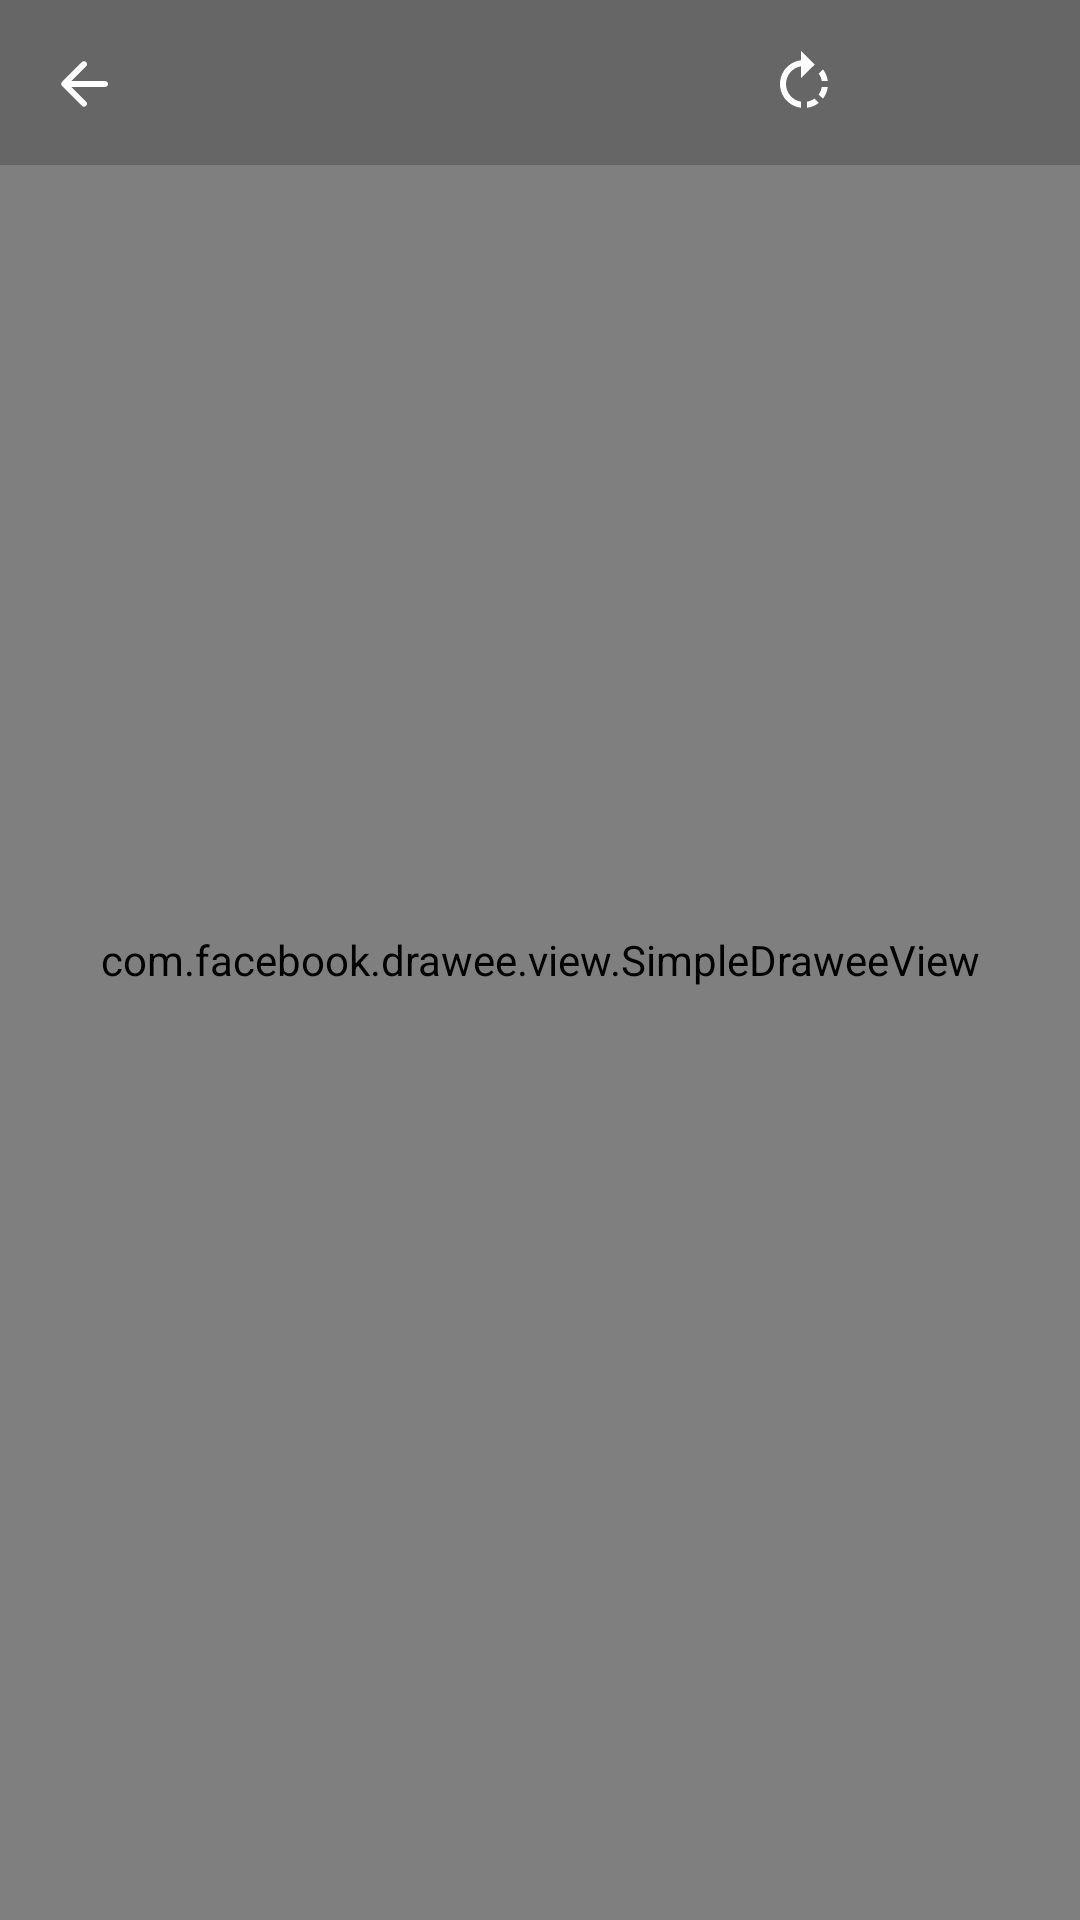

Point at icon controls on the screen. Image size 1080x1920, points as point (x, y).
back: point (84, 84)
rotate right: point (804, 79)
